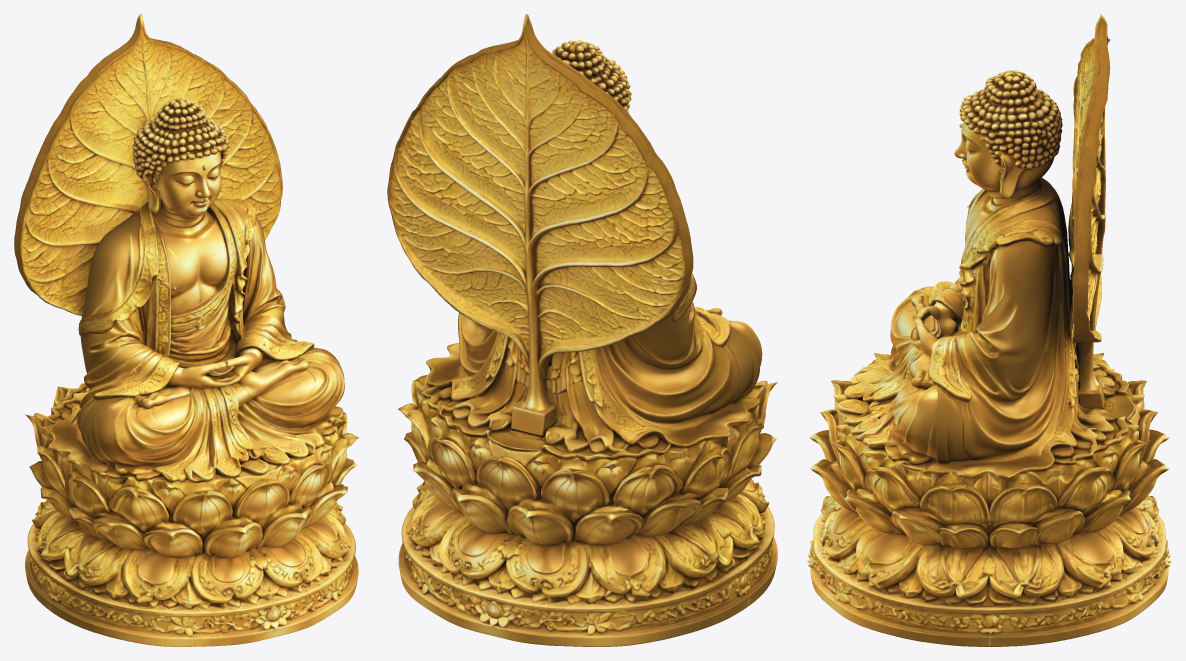
The model's file is base_basic_shaded.glb.
The picture shows the model from 3 angles, left to right: view 1: azimuth 30°, elevation 25°; view 2: azimuth 150°, elevation 25°; view 3: azimuth 270°, elevation 25°; orthographic projection. The views are drawn at different scales.
Parts seen in each view (by area): view 1: model; view 2: model; view 3: model.
Part boxes in pixels (x1,y1,x2,y2): model: (14, 14, 358, 646); model: (387, 14, 777, 646); model: (807, 14, 1171, 646).
Size of the model in its own units: 1.08 by 1.91 by 1.12.
Materials: 1 (1 with a texture image).
